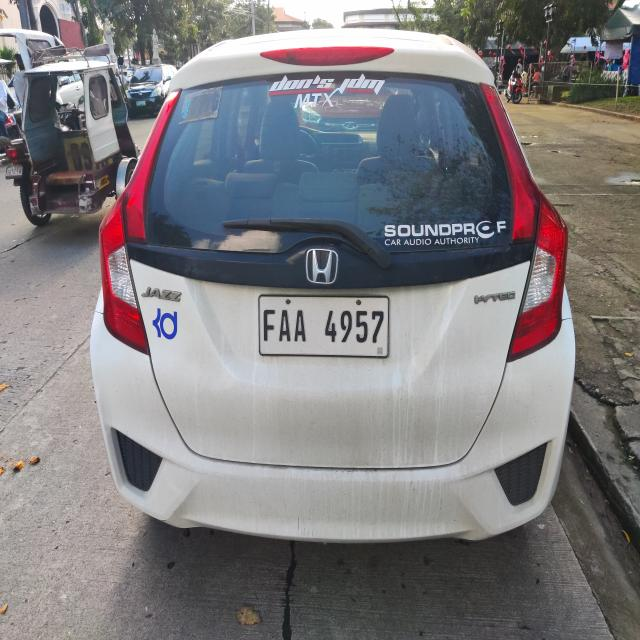plate: (256, 292, 392, 362)
